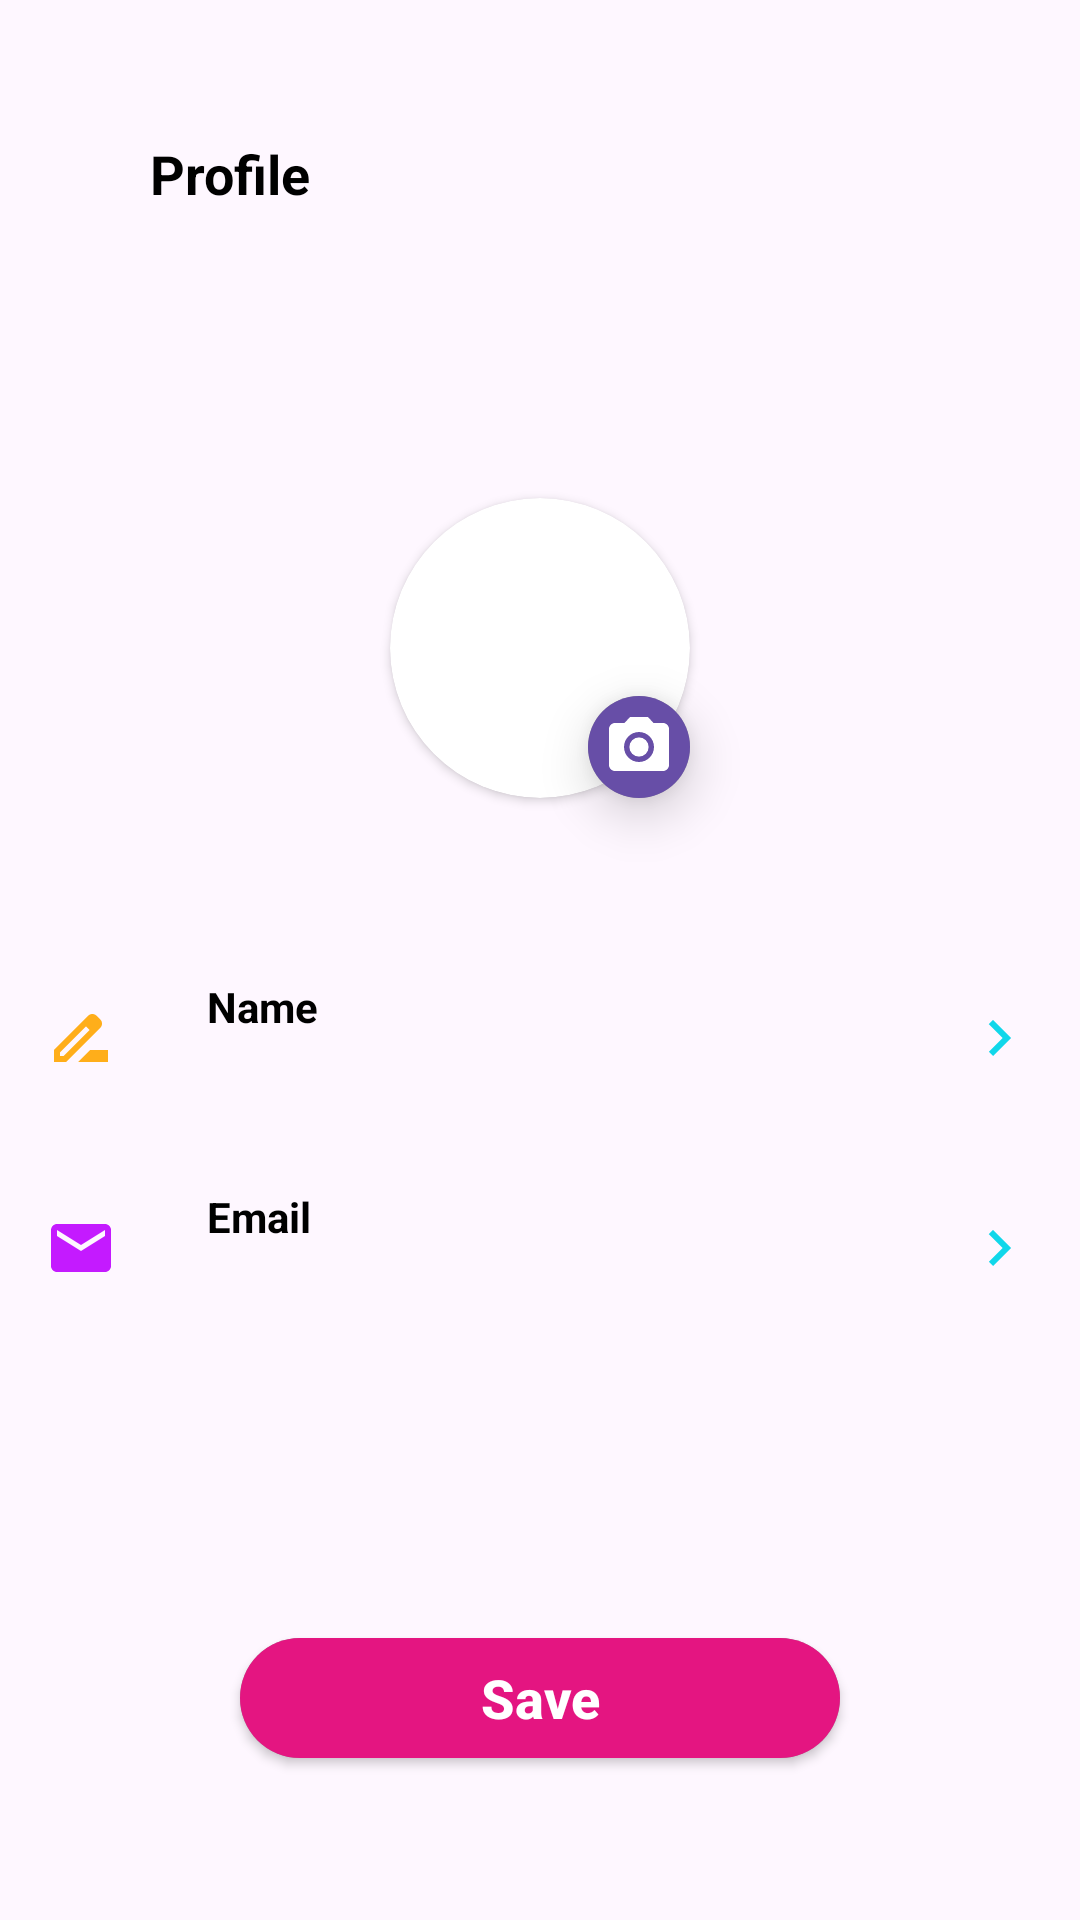

Icons on this 1080px x 1920px Android screen, each with the point to tap as (x,y):
photo camera: (639,747)
